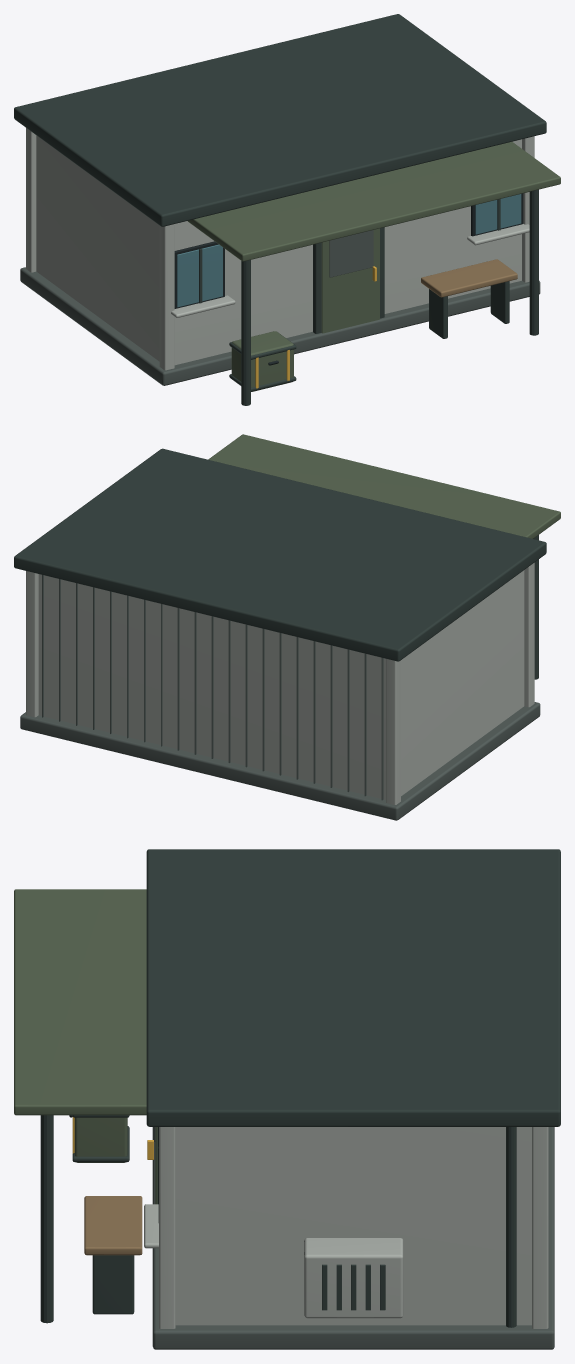
Rendered from WorkshopModule.fbx.
The picture shows the model from 3 angles, top to bottom: view 1: azimuth 30°, elevation 25°; view 2: azimuth 150°, elevation 25°; view 3: azimuth 270°, elevation 25°; orthographic projection. The views are drawn at different scales.
Parts seen in each view (by area): view 1: WorkshopModuleMesh; view 2: WorkshopModuleMesh; view 3: WorkshopModuleMesh.
Boxes of the visible parts, x1=… form: WorkshopModuleMesh: x1=14, y1=14, x2=560, y2=405; WorkshopModuleMesh: x1=14, y1=434, x2=560, y2=820; WorkshopModuleMesh: x1=14, y1=849, x2=560, y2=1349.
Size of the model in its own units: 786 by 324 by 660.
